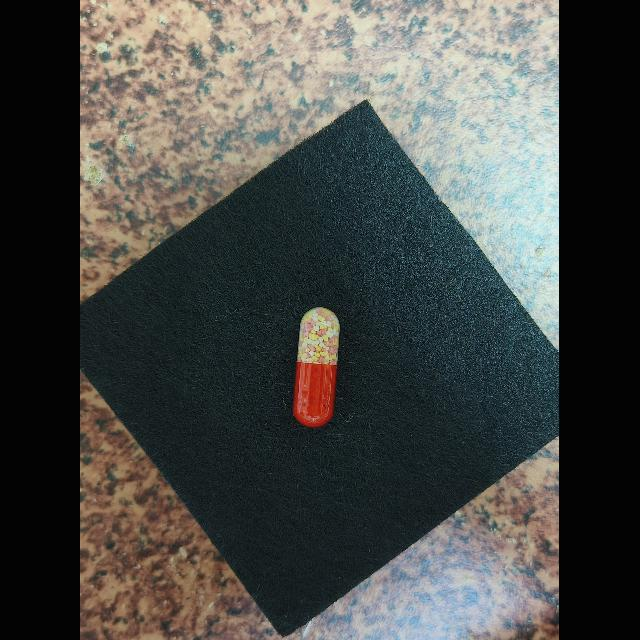Intact Capsule: (294, 307, 340, 427)
